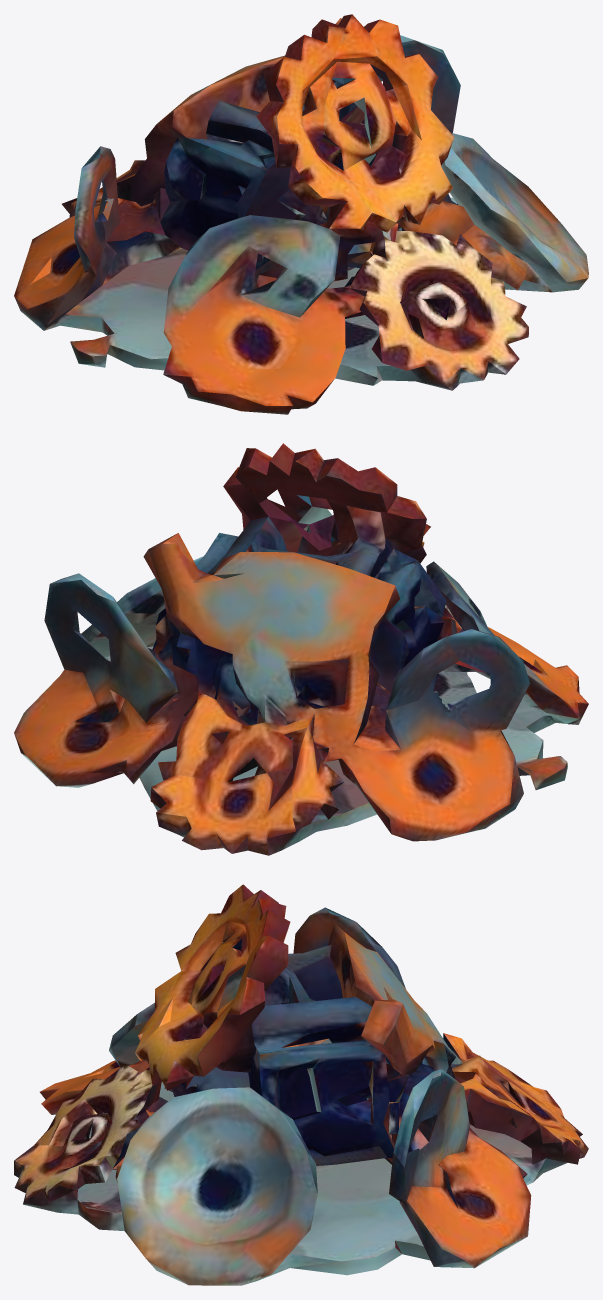
Rendered from scrap.glb.
3 views of the same model, one above another, from view 1: azimuth 30°, elevation 25°; view 2: azimuth 150°, elevation 25°; view 3: azimuth 270°, elevation 25° (orthographic).
Visible parts, largest first — view 1: item_scrap; view 2: item_scrap; view 3: item_scrap.
Boxes of the visible parts, bbox=[...] form: item_scrap: bbox=[14, 14, 588, 414]; item_scrap: bbox=[14, 443, 588, 855]; item_scrap: bbox=[14, 884, 588, 1285].
Bounding box in the file's own units: 0.9791 × 0.5359 × 1.
Materials: 1 (1 with a texture image).
